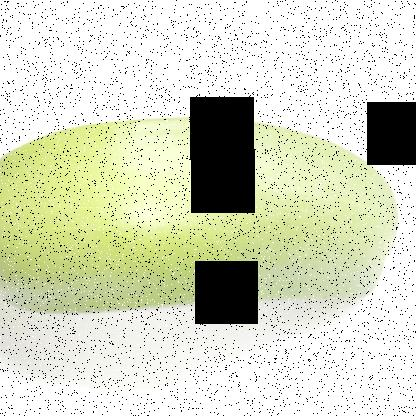freshunripe: (1, 100, 403, 334)
